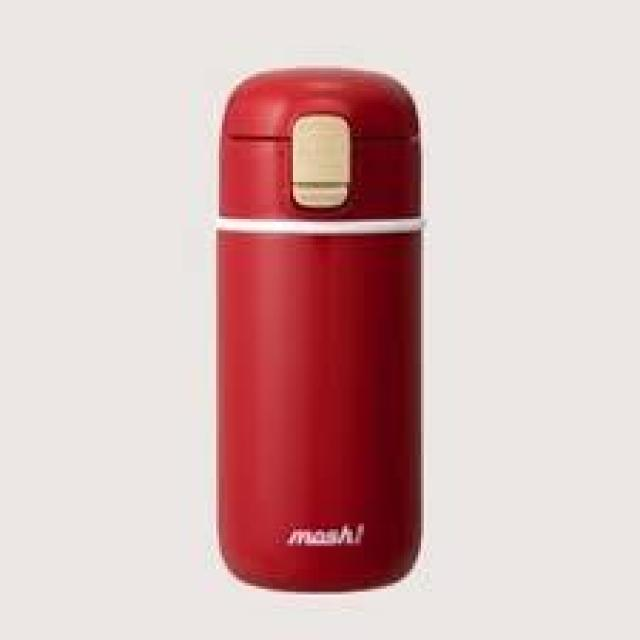bottle: (192, 58, 448, 599)
